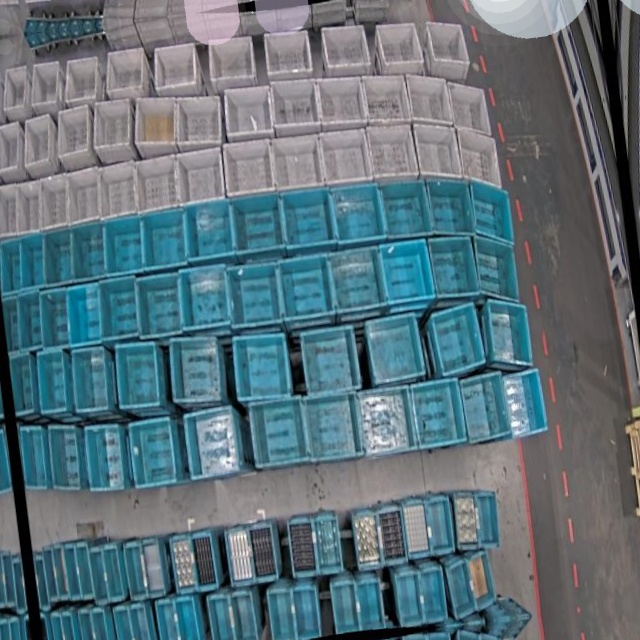Box: (298, 323, 363, 400), (364, 310, 427, 387), (230, 329, 294, 404), (354, 385, 416, 460), (429, 300, 488, 378), (250, 396, 312, 470), (182, 405, 242, 481), (276, 252, 339, 324), (327, 244, 388, 317), (408, 376, 467, 451), (167, 334, 225, 408), (459, 370, 516, 445), (379, 236, 438, 308), (303, 391, 360, 465), (278, 184, 339, 253), (226, 259, 286, 329), (425, 231, 482, 303), (328, 180, 386, 248), (231, 191, 289, 258), (176, 264, 233, 332), (378, 175, 435, 243), (423, 172, 478, 242), (366, 120, 422, 188), (182, 198, 239, 264), (317, 126, 373, 193), (128, 415, 179, 488), (453, 125, 506, 195), (487, 295, 534, 373), (473, 232, 521, 308), (114, 340, 165, 411), (132, 272, 185, 339), (501, 368, 551, 439), (410, 119, 462, 185), (169, 91, 226, 151), (269, 131, 325, 192), (469, 175, 515, 249), (140, 206, 193, 270), (220, 138, 276, 198), (173, 146, 228, 207), (221, 82, 276, 143), (269, 74, 324, 135), (313, 72, 368, 131), (95, 275, 142, 343), (360, 69, 414, 128), (82, 422, 128, 491), (405, 69, 456, 130), (68, 345, 112, 414), (101, 214, 149, 277), (99, 44, 150, 103), (132, 154, 182, 213), (129, 93, 181, 149), (448, 77, 493, 140), (94, 160, 141, 220), (58, 52, 106, 109), (45, 423, 84, 493), (65, 283, 107, 347), (69, 220, 111, 282), (63, 167, 106, 227), (34, 174, 76, 233), (205, 35, 257, 82), (34, 349, 71, 415), (39, 226, 79, 287), (88, 98, 134, 150), (9, 179, 50, 237), (321, 23, 371, 70), (263, 28, 313, 75), (425, 17, 471, 68), (375, 19, 424, 66), (0, 62, 38, 122), (38, 288, 75, 349), (52, 104, 94, 157), (150, 44, 198, 90), (6, 352, 39, 418), (310, 512, 343, 576), (353, 507, 386, 571), (14, 230, 49, 290), (425, 493, 458, 556), (17, 425, 48, 492), (451, 488, 483, 552), (19, 113, 56, 168), (401, 497, 433, 560), (376, 505, 408, 567), (288, 514, 319, 578), (15, 291, 47, 351), (249, 521, 280, 582), (446, 559, 477, 620), (473, 491, 504, 552), (418, 567, 449, 625), (226, 525, 255, 587), (468, 550, 497, 612), (190, 529, 218, 592), (291, 585, 323, 640), (26, 60, 65, 105), (169, 532, 197, 594), (394, 574, 424, 631), (355, 577, 386, 631), (141, 536, 167, 597), (330, 583, 360, 635), (266, 590, 296, 640), (0, 237, 25, 294), (230, 591, 259, 640), (122, 540, 146, 599), (206, 594, 236, 640), (87, 547, 110, 606), (0, 121, 25, 175), (101, 542, 123, 601), (61, 541, 82, 601), (73, 540, 94, 599), (0, 184, 22, 237), (174, 597, 201, 640), (50, 543, 70, 601), (155, 597, 181, 640), (40, 546, 59, 604), (34, 554, 51, 612), (127, 603, 153, 640), (112, 604, 137, 640), (91, 606, 113, 640), (77, 608, 99, 640), (59, 611, 79, 640), (50, 612, 69, 640), (0, 72, 9, 129), (40, 614, 53, 640), (0, 184, 4, 238), (0, 126, 0, 174)
